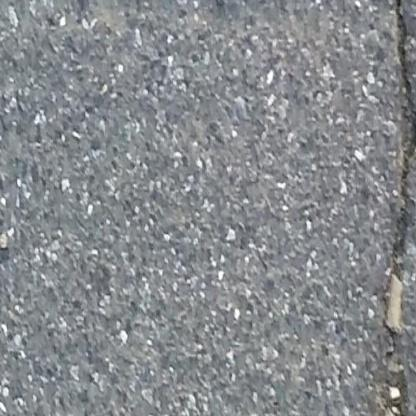Cracks: (385, 0, 416, 416)
